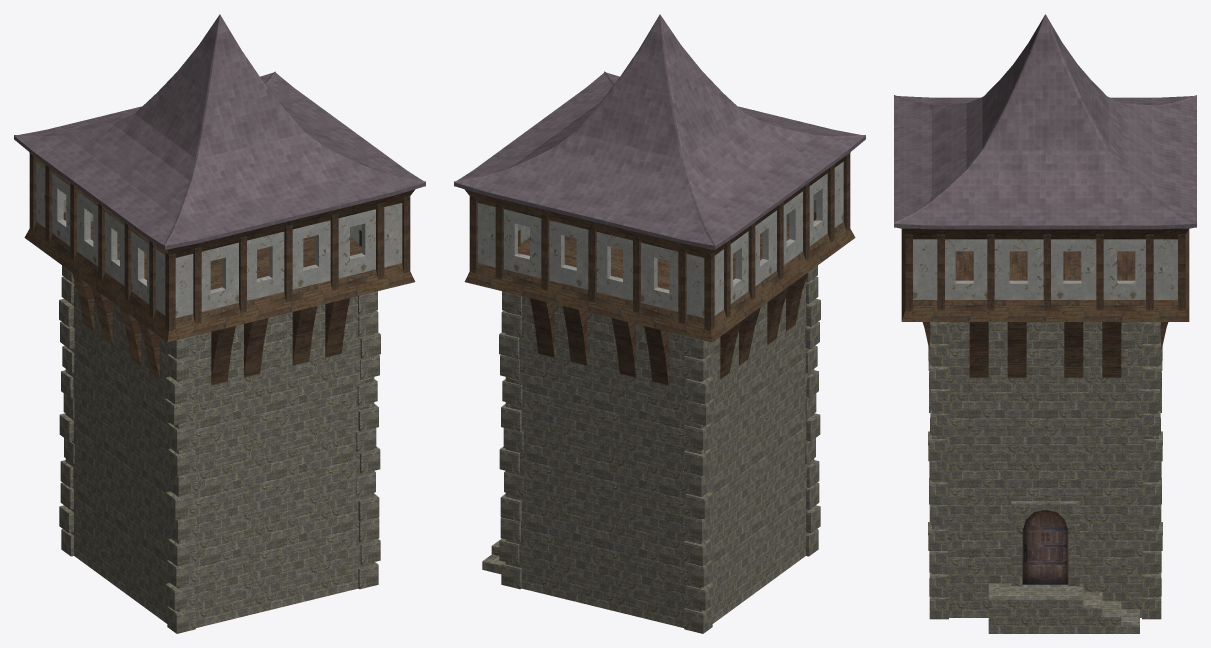
Rendered from tower.fbx.
The picture shows the model from 3 angles, left to right: view 1: azimuth 30°, elevation 25°; view 2: azimuth 150°, elevation 25°; view 3: azimuth 270°, elevation 25°; orthographic projection.
Visible parts, largest first — view 1: tower; view 2: tower; view 3: tower.
Part boxes in pixels (x1=…): tower: x1=14, y1=14, x2=425, y2=633; tower: x1=454, y1=14, x2=865, y2=633; tower: x1=894, y1=14, x2=1196, y2=633.
Bounding box in the file's own units: 800 × 1620 × 800.
Materials: 5 (5 with a texture image).
